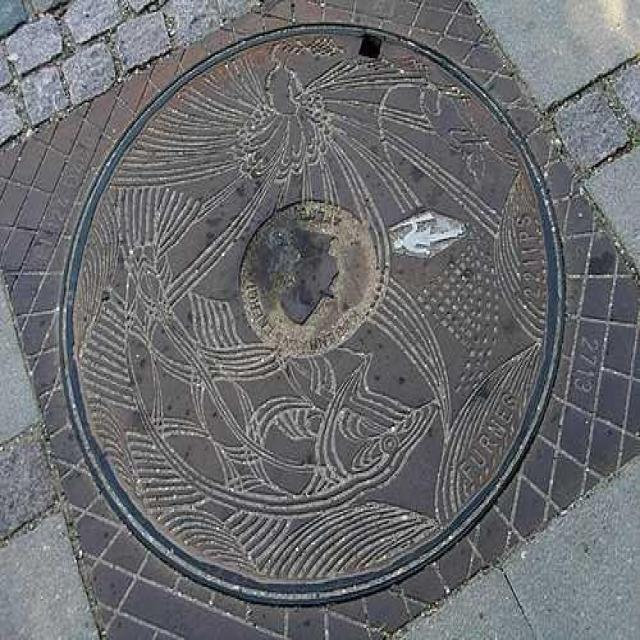manhole: (0, 0, 640, 633)
